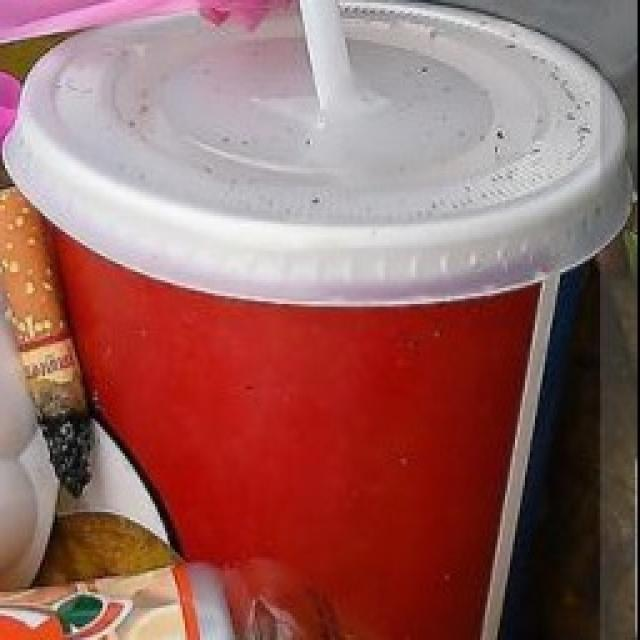paper cup: (4, 0, 640, 623)
